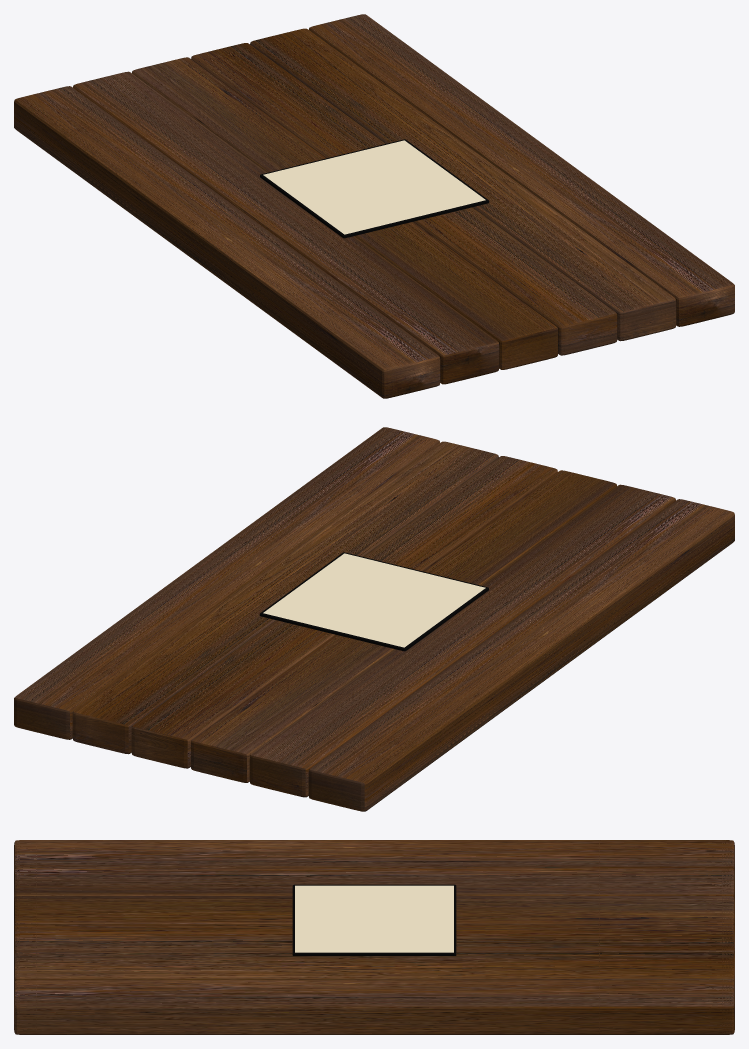
The model's file is table.fbx.
The picture shows the model from 3 angles, top to bottom: view 1: azimuth 30°, elevation 25°; view 2: azimuth 150°, elevation 25°; view 3: azimuth 270°, elevation 25°; orthographic projection. The views are drawn at different scales.
Parts seen in each view (by area): view 1: Cube.004, Cube.005, Cube.003, Cube.002, Cube.001, Cube, Cube.006; view 2: Cube.004, Cube.005, Cube.003, Cube.002, Cube.001, Cube, Cube.006; view 3: Cube.005, Cube.004, Cube.002, Cube.003, Cube, Cube.001, Cube.006.
Boxes of the visible parts, left/top/right/bottom form: Cube.004: left=14, top=86, right=440, bottom=398; Cube.005: left=309, top=14, right=734, bottom=326; Cube.003: left=73, top=71, right=499, bottom=384; Cube.002: left=250, top=28, right=676, bottom=341; Cube.001: left=191, top=43, right=617, bottom=355; Cube: left=132, top=57, right=557, bottom=369; Cube.006: left=260, top=139, right=489, bottom=238; Cube.004: left=308, top=499, right=734, bottom=811; Cube.005: left=14, top=427, right=439, bottom=739; Cube.003: left=249, top=484, right=675, bottom=797; Cube.002: left=72, top=441, right=498, bottom=754; Cube.001: left=131, top=456, right=557, bottom=768; Cube: left=191, top=470, right=616, bottom=782; Cube.006: left=259, top=552, right=488, bottom=651; Cube.005: left=14, top=980, right=734, bottom=1034; Cube.004: left=14, top=840, right=734, bottom=872; Cube.002: left=14, top=952, right=734, bottom=984; Cube.003: left=14, top=868, right=734, bottom=900; Cube: left=14, top=896, right=734, bottom=928; Cube.001: left=14, top=924, right=734, bottom=956; Cube.006: left=292, top=884, right=456, bottom=955.
Bounding box in the file's own units: 12.09 × 1.12 × 22.
